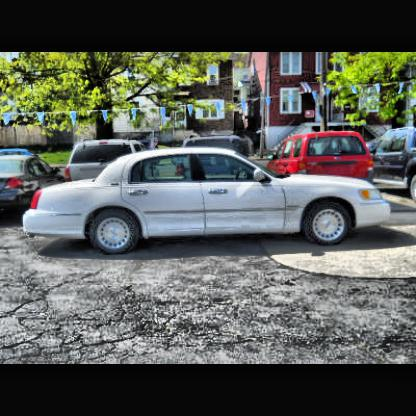Lincoln Town Car Sedan 2011: (21, 142, 389, 246)
